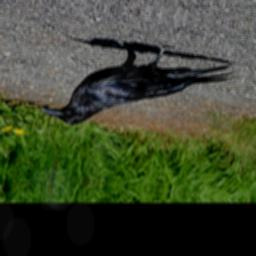Crow: (38, 28, 247, 144)
